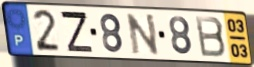2: (31, 8, 64, 54)
8: (99, 11, 125, 55), (168, 15, 195, 57)
B: (193, 15, 228, 59)
N: (124, 12, 161, 57)
Z: (58, 10, 95, 54)
